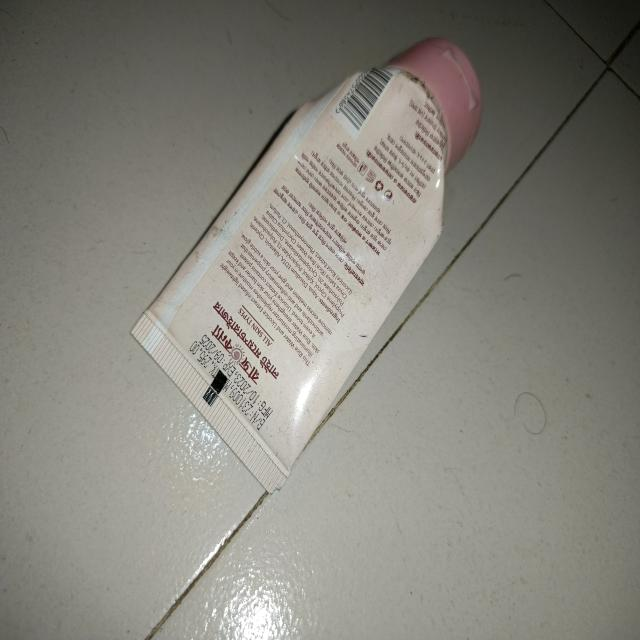Squeeze Tube: (143, 62, 509, 540)
